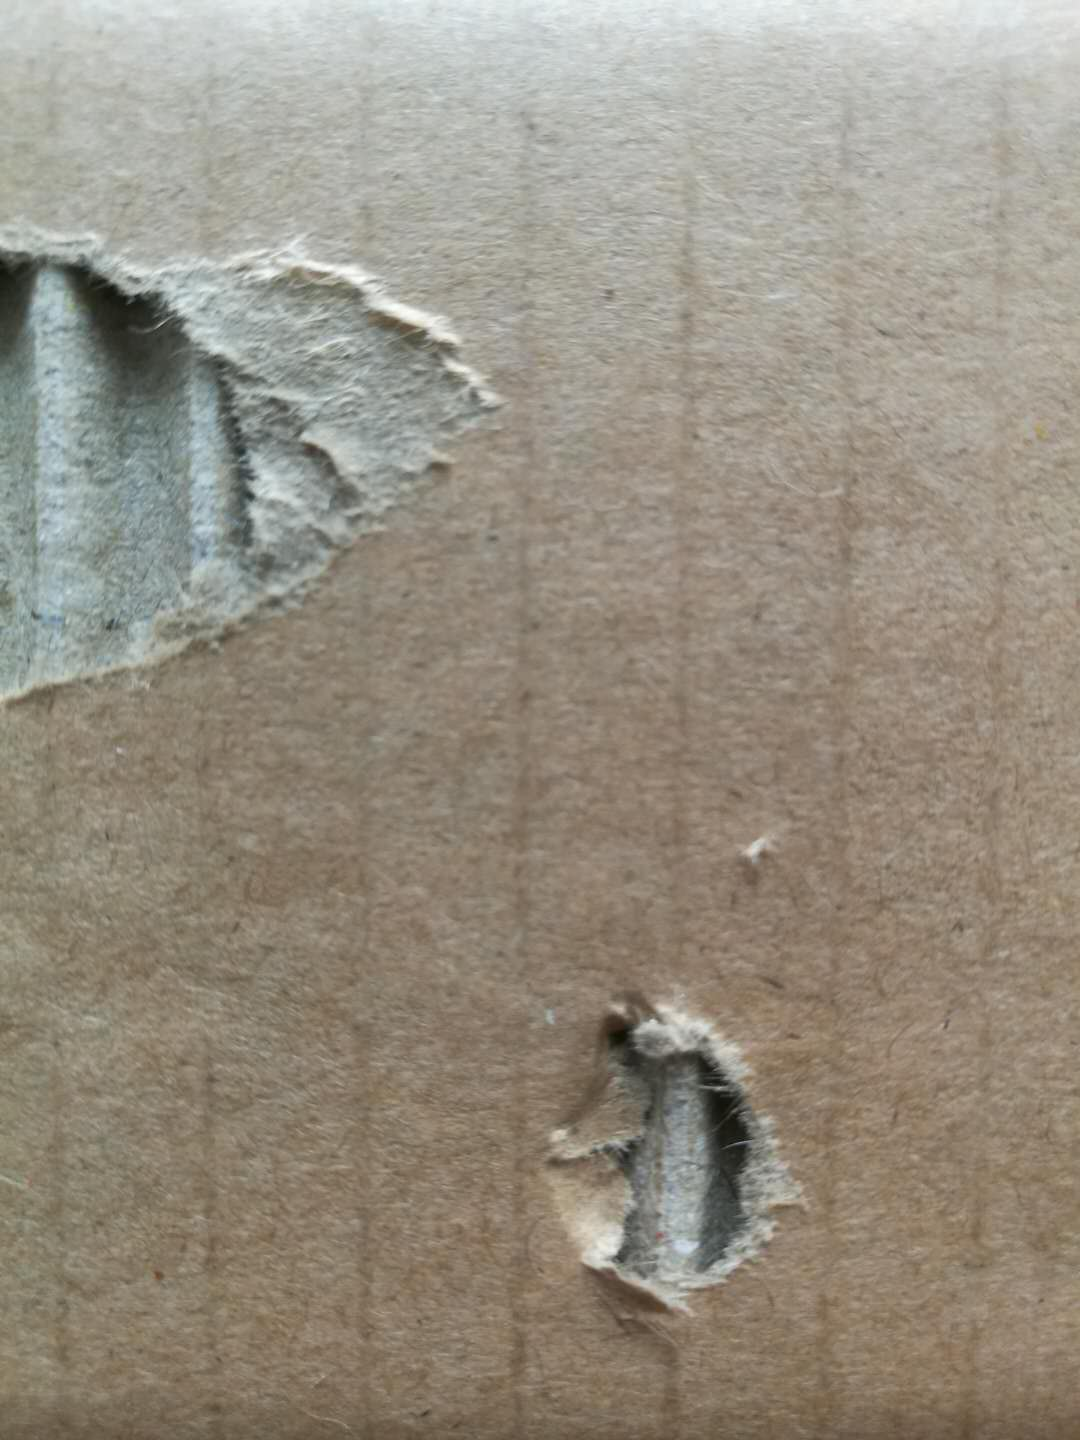defect: (3, 179, 526, 745), (506, 950, 835, 1327)
